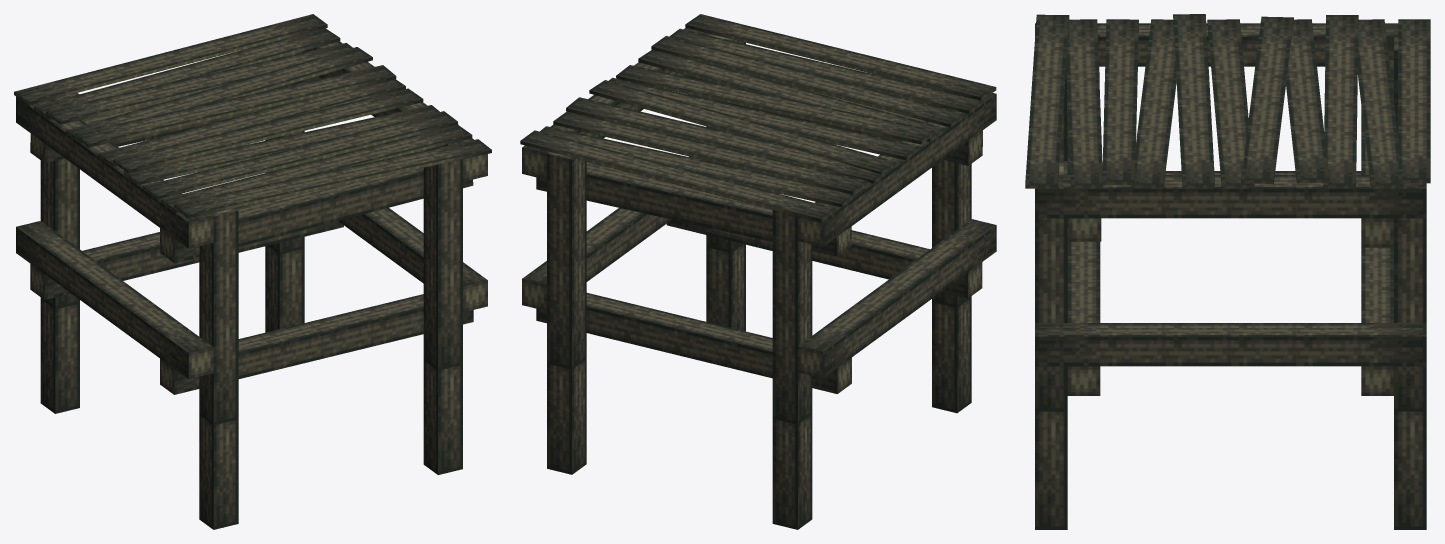
Rendered from ObjMD_Scaffold_A.FBX.
3 renders of one model, left to right at view 1: azimuth 30°, elevation 25°; view 2: azimuth 150°, elevation 25°; view 3: azimuth 270°, elevation 25°, orthographic. The views are drawn at different scales.
Visible parts, largest first — view 1: ObjMD_Scaffold_A; view 2: ObjMD_Scaffold_A; view 3: ObjMD_Scaffold_A.
Part boxes in pixels (<box>): ObjMD_Scaffold_A: <box>14,14,491,529</box>; ObjMD_Scaffold_A: <box>520,14,996,529</box>; ObjMD_Scaffold_A: <box>1025,14,1430,529</box>.
Size of the model in its own units: 602 by 616 by 621.
